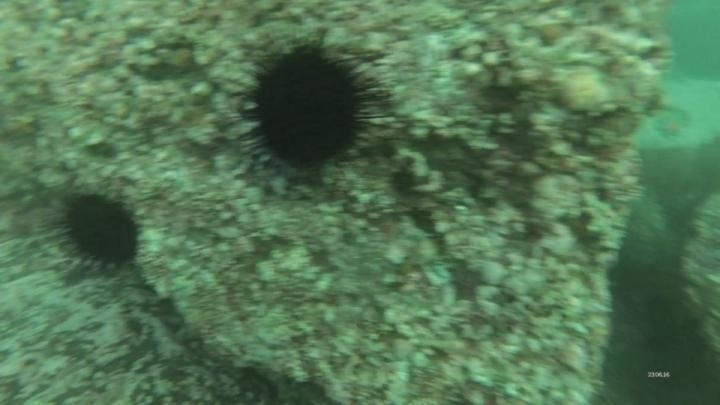echinus: (231, 34, 389, 183), (45, 186, 148, 276)
starfish: (648, 104, 694, 145)
